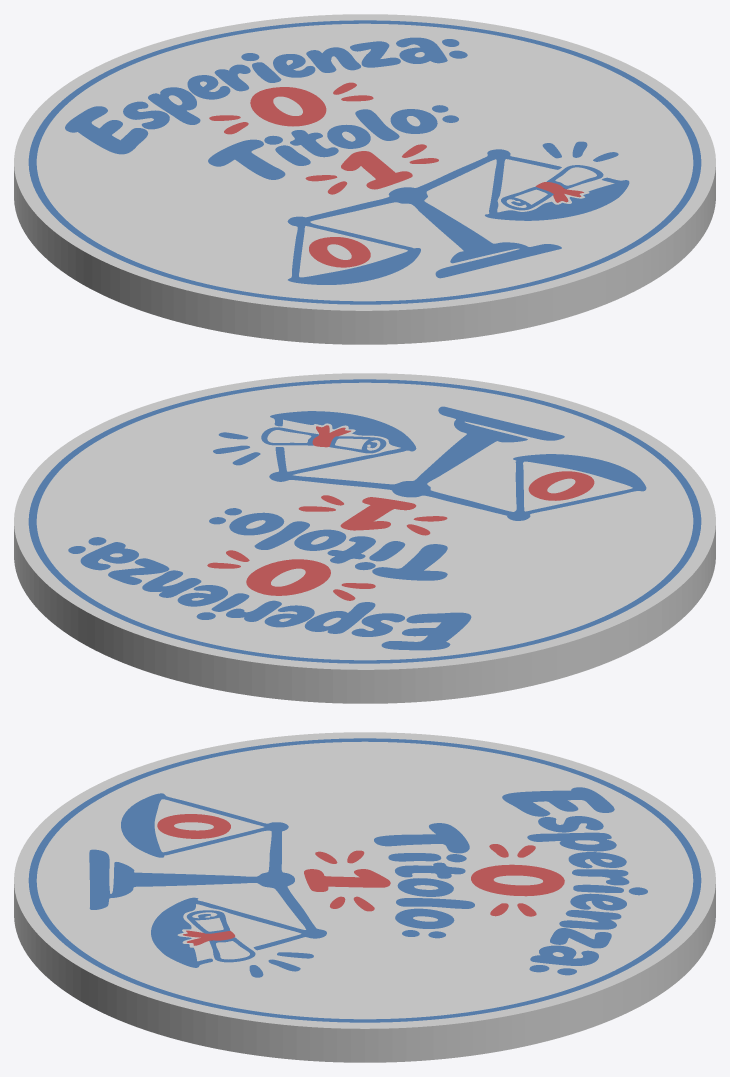
File: sottobicchiere-esperienza-titolo.glb
3 renders of one model, top to bottom at view 1: azimuth 30°, elevation 25°; view 2: azimuth 150°, elevation 25°; view 3: azimuth 270°, elevation 25°, orthographic.
Parts seen in each view (by area): view 1: coaster_base, coaster_ink, coaster_accent; view 2: coaster_base, coaster_ink, coaster_accent; view 3: coaster_base, coaster_ink, coaster_accent.
Part boxes in pixels (<box>): coaster_base: <box>14,14,715,344</box>; coaster_ink: <box>28,20,701,304</box>; coaster_accent: <box>209,82,583,267</box>; coaster_base: <box>14,373,715,703</box>; coaster_ink: <box>28,379,701,663</box>; coaster_accent: <box>207,425,594,600</box>; coaster_base: <box>14,732,715,1062</box>; coaster_ink: <box>28,738,701,1022</box>; coaster_accent: <box>157,814,564,945</box>.
Bounding box in the file's own units: 0.075 × 0.004 × 0.075.
